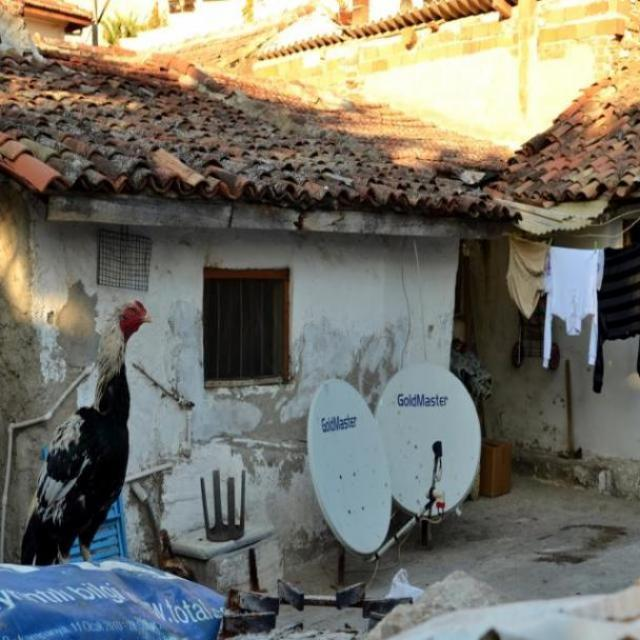Chicken: (30, 299, 152, 575)
